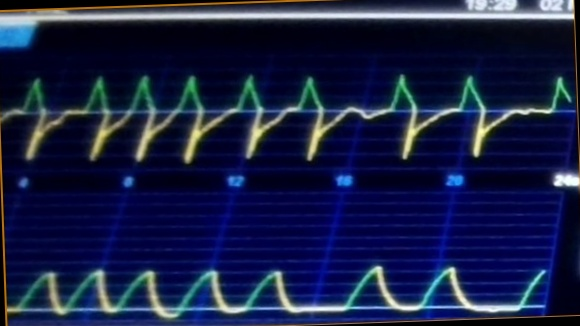Ineffective_effort Flow: (1, 66, 573, 166)
Ineffective_effort Volume: (10, 255, 543, 321)
